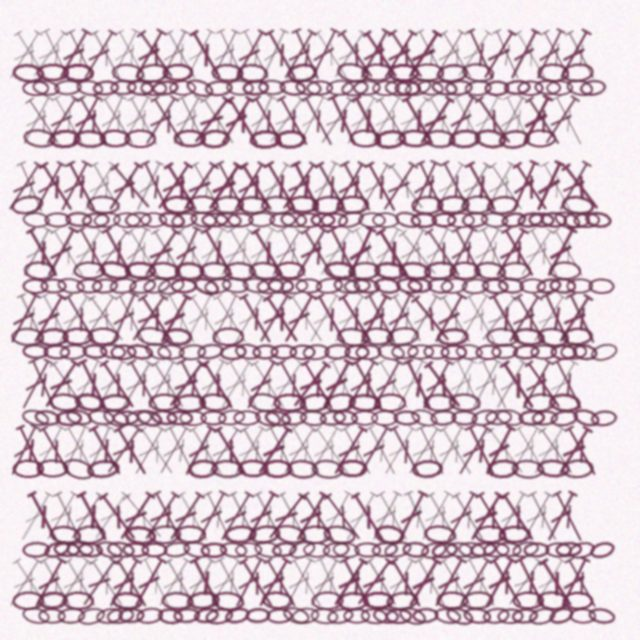chain: (60, 455, 96, 483), (272, 522, 308, 547), (335, 60, 370, 85), (97, 258, 132, 283), (10, 193, 45, 217), (322, 523, 357, 547), (22, 127, 57, 150), (135, 325, 170, 348), (385, 325, 420, 348), (247, 391, 282, 414), (461, 61, 495, 84), (473, 127, 507, 150), (298, 391, 332, 414), (323, 391, 357, 414), (248, 523, 282, 546), (135, 62, 170, 84), (560, 194, 595, 216), (397, 260, 432, 282), (385, 590, 420, 612), (286, 61, 319, 84), (73, 391, 106, 414), (373, 523, 406, 546), (11, 62, 45, 84), (111, 62, 145, 84), (373, 128, 407, 150), (311, 194, 345, 216), (473, 260, 507, 282), (336, 326, 370, 348), (511, 326, 545, 348), (536, 326, 570, 348), (86, 458, 120, 480), (48, 524, 82, 546), (123, 524, 157, 546), (211, 590, 245, 612), (184, 76, 215, 100), (397, 604, 428, 628), (444, 604, 475, 628), (436, 62, 469, 84), (498, 128, 531, 150), (486, 194, 519, 216), (148, 260, 181, 282), (248, 260, 281, 282), (373, 260, 406, 282), (311, 458, 344, 480), (552, 208, 582, 232), (191, 274, 221, 298), (101, 406, 131, 430), (409, 406, 439, 430), (436, 194, 470, 215), (423, 260, 457, 281), (48, 392, 82, 413), (536, 458, 570, 479), (148, 524, 182, 545), (223, 524, 257, 545), (423, 524, 457, 545), (186, 590, 220, 611), (561, 62, 594, 83), (48, 128, 81, 149), (448, 128, 481, 149), (461, 194, 494, 215), (23, 260, 56, 281), (323, 260, 356, 281), (561, 326, 594, 347), (198, 392, 231, 413), (448, 392, 481, 413), (523, 392, 556, 413), (548, 392, 581, 413), (486, 458, 519, 479), (561, 458, 594, 479), (73, 524, 106, 545), (261, 590, 294, 611), (461, 590, 494, 611), (536, 590, 569, 611), (403, 76, 433, 99), (336, 208, 366, 231), (143, 340, 173, 363), (571, 406, 601, 429), (42, 538, 72, 561), (287, 538, 317, 561), (281, 604, 311, 627), (20, 407, 51, 429), (76, 605, 107, 627), (86, 195, 120, 215), (511, 459, 545, 479), (199, 128, 231, 149), (187, 458, 219, 479), (37, 590, 69, 611), (547, 604, 576, 627), (211, 63, 244, 83), (236, 63, 269, 83), (73, 129, 106, 149), (423, 129, 456, 149), (261, 195, 294, 215), (411, 195, 444, 215), (393, 209, 423, 231), (223, 261, 256, 281), (348, 261, 381, 281), (156, 275, 186, 297), (11, 327, 44, 347), (36, 327, 69, 347), (436, 327, 469, 347), (486, 327, 519, 347), (589, 341, 619, 363), (173, 393, 206, 413), (348, 393, 381, 413), (423, 393, 456, 413), (134, 407, 164, 429), (253, 407, 283, 429), (211, 459, 244, 479), (286, 459, 319, 479), (411, 459, 444, 479), (419, 539, 449, 561), (567, 539, 597, 561), (111, 591, 144, 611), (161, 591, 194, 611), (527, 605, 557, 627), (249, 129, 281, 149), (274, 129, 306, 149), (212, 195, 244, 215), (237, 195, 269, 215), (199, 261, 231, 281), (499, 261, 531, 281), (99, 393, 131, 413), (337, 591, 369, 611), (588, 539, 617, 561), (142, 275, 172, 296), (64, 407, 94, 428), (495, 407, 525, 428), (94, 539, 124, 560), (253, 539, 283, 560), (383, 539, 413, 560), (21, 605, 51, 626), (36, 63, 69, 82), (361, 63, 394, 82), (411, 63, 444, 82), (173, 129, 206, 148), (398, 129, 431, 148), (186, 195, 219, 214), (286, 195, 319, 214), (336, 195, 369, 214), (73, 261, 106, 280), (361, 327, 394, 346), (148, 393, 181, 412), (273, 393, 306, 412), (36, 459, 69, 478), (498, 525, 531, 544), (311, 591, 344, 610), (436, 591, 469, 610), (174, 261, 205, 281), (162, 327, 193, 347), (565, 77, 594, 98), (157, 209, 186, 230), (470, 407, 499, 428), (182, 539, 211, 560), (511, 539, 540, 560), (223, 605, 252, 626), (62, 63, 94, 82), (162, 63, 194, 82), (387, 63, 419, 82), (537, 63, 569, 82), (99, 129, 131, 148), (124, 129, 156, 148), (349, 129, 381, 148), (524, 129, 556, 148), (162, 195, 194, 214), (124, 261, 156, 280), (274, 261, 306, 280), (449, 261, 481, 280), (549, 261, 581, 280), (62, 327, 94, 346), (87, 327, 119, 346), (212, 327, 244, 346), (374, 393, 406, 412), (12, 459, 44, 478), (237, 459, 269, 478), (174, 525, 206, 544), (299, 525, 331, 544), (474, 525, 506, 544), (12, 591, 44, 610), (62, 591, 94, 610), (362, 591, 394, 610), (512, 591, 544, 610), (562, 591, 594, 610), (31, 78, 61, 98), (340, 78, 370, 98), (56, 276, 86, 296), (203, 276, 233, 296), (376, 342, 406, 362), (549, 408, 579, 428), (457, 540, 487, 560), (204, 606, 234, 626), (262, 459, 293, 478), (337, 459, 368, 478), (75, 78, 104, 98), (430, 78, 459, 98), (170, 210, 199, 230), (516, 210, 545, 230), (128, 276, 157, 296), (332, 276, 361, 296), (352, 276, 381, 296), (125, 342, 154, 362), (33, 408, 62, 428), (124, 408, 153, 428), (263, 408, 292, 428), (430, 540, 459, 560), (95, 606, 124, 626), (326, 606, 355, 626), (433, 606, 462, 626), (587, 606, 616, 626), (462, 606, 492, 625), (500, 210, 528, 230), (535, 276, 563, 296), (571, 342, 599, 362), (278, 78, 307, 97), (294, 78, 323, 97), (189, 210, 218, 229), (242, 276, 271, 295), (315, 276, 344, 295), (196, 342, 225, 361), (217, 408, 246, 427), (106, 540, 135, 559), (106, 606, 135, 625), (135, 606, 164, 625), (291, 606, 320, 625), (579, 78, 607, 97), (584, 210, 612, 229), (109, 276, 137, 295), (221, 276, 249, 295), (373, 276, 401, 295), (395, 276, 423, 295), (440, 276, 468, 295), (497, 276, 525, 295), (99, 342, 127, 361), (234, 342, 262, 361), (87, 408, 115, 427), (150, 408, 178, 427), (163, 540, 191, 559), (322, 540, 350, 559), (371, 540, 399, 559), (469, 540, 497, 559), (372, 606, 400, 625), (482, 606, 510, 625), (204, 79, 233, 97), (81, 211, 110, 229), (480, 211, 509, 229), (256, 277, 285, 295), (280, 277, 309, 295), (461, 277, 490, 295), (59, 343, 88, 361), (178, 343, 207, 361), (219, 541, 248, 559), (445, 541, 474, 559), (310, 607, 339, 625), (332, 408, 359, 427), (271, 540, 298, 559), (193, 606, 220, 625), (92, 79, 120, 97), (151, 79, 179, 97), (384, 79, 412, 97), (416, 79, 444, 97), (464, 79, 492, 97), (22, 211, 50, 229), (93, 211, 121, 229), (214, 211, 242, 229), (91, 277, 119, 295), (343, 277, 371, 295), (481, 277, 509, 295), (219, 343, 247, 361), (302, 343, 330, 361), (455, 343, 483, 361), (512, 343, 540, 361), (280, 409, 308, 427), (299, 409, 327, 427), (319, 409, 347, 427), (531, 409, 559, 427), (590, 409, 618, 427), (332, 541, 360, 559), (360, 607, 388, 625), (511, 607, 539, 625), (444, 79, 473, 96), (57, 607, 86, 624), (77, 541, 104, 559), (157, 607, 184, 625), (54, 79, 82, 96), (126, 79, 154, 96), (226, 79, 254, 96), (258, 79, 286, 96), (326, 79, 354, 96), (353, 79, 381, 96), (503, 79, 531, 96), (124, 211, 152, 228), (461, 211, 489, 228), (391, 343, 419, 360), (22, 541, 50, 558), (66, 541, 94, 558), (110, 79, 137, 96), (242, 79, 269, 96), (534, 79, 561, 96), (65, 211, 92, 228), (248, 211, 275, 228), (280, 211, 307, 228), (540, 211, 567, 228), (267, 277, 294, 294), (427, 277, 454, 294), (549, 277, 576, 294), (22, 343, 49, 360), (324, 343, 351, 360), (491, 343, 518, 360), (560, 343, 587, 360), (430, 409, 457, 426), (485, 409, 512, 426), (518, 409, 545, 426), (53, 541, 80, 558), (402, 541, 429, 558), (495, 541, 522, 558), (555, 541, 582, 558), (118, 607, 145, 624), (173, 607, 200, 624), (412, 607, 439, 624), (372, 80, 400, 96), (113, 212, 141, 228), (320, 212, 348, 228), (358, 212, 386, 228), (447, 212, 475, 228), (157, 344, 185, 360), (179, 410, 207, 426), (233, 410, 261, 426), (38, 608, 66, 624), (407, 277, 433, 294), (82, 343, 108, 360), (245, 607, 271, 624), (22, 80, 49, 96), (140, 80, 167, 96), (169, 80, 196, 96), (306, 80, 333, 96), (394, 80, 421, 96), (517, 80, 544, 96), (546, 80, 573, 96), (44, 212, 71, 228), (140, 212, 167, 228), (201, 212, 228, 228), (227, 212, 254, 228), (269, 212, 296, 228), (295, 212, 322, 228), (372, 212, 399, 228), (410, 212, 437, 228), (528, 212, 555, 228), (563, 212, 590, 228), (573, 212, 600, 228), (22, 278, 49, 294), (40, 278, 67, 294), (76, 278, 103, 294), (170, 278, 197, 294), (295, 278, 322, 294), (519, 278, 546, 294), (566, 278, 593, 294), (588, 278, 615, 294), (43, 344, 70, 360), (110, 344, 137, 360), (252, 344, 279, 360), (270, 344, 297, 360), (289, 344, 316, 360), (355, 344, 382, 360), (407, 344, 434, 360), (423, 344, 450, 360), (440, 344, 467, 360), (475, 344, 502, 360), (530, 344, 557, 360), (550, 344, 577, 360), (55, 410, 82, 426), (112, 410, 139, 426), (166, 410, 193, 426), (200, 410, 227, 426), (351, 410, 378, 426), (371, 410, 398, 426), (393, 410, 420, 426), (451, 410, 478, 426), (122, 542, 149, 558), (141, 542, 168, 558), (200, 542, 227, 558), (235, 542, 262, 558), (303, 542, 330, 558), (354, 542, 381, 558), (483, 542, 510, 558), (523, 542, 550, 558), (545, 542, 572, 558), (266, 608, 293, 624), (343, 608, 370, 624), (385, 608, 412, 624), (497, 608, 524, 624), (569, 608, 596, 624), (484, 80, 510, 96), (310, 212, 336, 228), (431, 212, 457, 228), (344, 344, 370, 360)
double: (407, 292, 456, 346), (187, 93, 235, 148), (162, 357, 210, 412), (107, 160, 156, 213), (119, 490, 168, 543), (395, 226, 443, 280), (262, 490, 310, 544), (133, 27, 180, 82), (125, 291, 172, 346), (45, 357, 92, 412), (100, 423, 147, 478), (21, 93, 67, 149), (313, 93, 359, 149), (521, 93, 567, 149), (176, 159, 222, 215), (201, 159, 247, 215), (484, 159, 530, 215), (138, 225, 184, 281), (421, 225, 467, 281), (513, 225, 559, 281), (134, 291, 180, 347), (259, 291, 305, 347), (246, 357, 292, 413), (263, 357, 309, 413), (134, 423, 180, 479), (534, 423, 580, 479), (76, 555, 122, 611), (84, 555, 130, 611), (558, 160, 605, 214), (475, 292, 522, 346), (287, 358, 334, 412), (420, 358, 467, 412), (483, 424, 530, 478), (95, 490, 142, 544), (320, 490, 367, 544), (26, 27, 72, 82), (263, 93, 309, 148), (388, 93, 434, 148), (471, 93, 517, 148), (384, 159, 430, 214), (88, 225, 134, 280), (84, 291, 130, 346), (521, 357, 567, 412), (309, 423, 355, 478), (351, 555, 397, 610), (501, 555, 547, 610), (401, 27, 446, 83), (96, 93, 141, 149), (138, 93, 183, 149), (196, 93, 241, 149), (371, 93, 416, 149), (413, 93, 458, 149), (376, 159, 421, 215), (46, 225, 91, 281), (213, 225, 258, 281), (184, 291, 229, 347), (209, 291, 254, 347), (334, 291, 379, 347), (501, 291, 546, 347), (526, 291, 571, 347), (146, 357, 191, 413), (496, 357, 541, 413), (201, 423, 246, 479), (401, 423, 446, 479), (551, 423, 596, 479), (163, 489, 208, 545), (463, 489, 508, 545), (496, 489, 541, 545), (51, 555, 96, 611), (427, 26, 471, 83), (47, 92, 91, 149), (222, 224, 266, 281), (289, 224, 333, 281), (497, 224, 541, 281), (252, 290, 296, 347), (385, 290, 429, 347), (372, 356, 416, 413), (510, 422, 554, 479), (39, 488, 83, 545), (360, 554, 404, 611), (485, 554, 529, 611), (309, 27, 354, 82), (334, 27, 379, 82), (359, 27, 404, 82), (384, 27, 429, 82), (451, 27, 496, 82), (538, 93, 583, 148), (151, 159, 196, 214), (276, 159, 321, 214), (509, 159, 554, 214), (313, 225, 358, 280), (76, 291, 121, 346), (284, 291, 329, 346), (38, 357, 83, 412), (96, 357, 141, 412), (251, 423, 296, 478), (276, 423, 321, 478), (63, 489, 108, 544), (88, 489, 133, 544), (113, 489, 158, 544), (138, 489, 183, 544), (9, 555, 54, 610), (2, 27, 46, 83), (10, 27, 54, 83), (327, 27, 371, 83), (377, 27, 421, 83), (435, 27, 479, 83), (39, 93, 83, 149), (147, 93, 191, 149), (214, 93, 258, 149), (2, 159, 46, 215), (35, 159, 79, 215), (77, 159, 121, 215), (102, 159, 146, 215), (160, 159, 204, 215), (235, 159, 279, 215), (452, 159, 496, 215), (64, 225, 108, 281), (122, 225, 166, 281), (297, 225, 341, 281), (372, 225, 416, 281), (327, 291, 371, 347), (552, 291, 596, 347), (114, 357, 158, 413), (185, 423, 229, 479), (227, 423, 271, 479), (327, 423, 371, 479), (377, 423, 421, 479), (435, 423, 479, 479), (297, 489, 341, 545), (347, 489, 391, 545), (447, 489, 491, 545), (2, 555, 46, 611), (110, 555, 154, 611), (202, 555, 246, 611), (235, 555, 279, 611), (452, 555, 496, 611), (535, 555, 579, 611), (52, 26, 95, 83), (127, 26, 170, 83), (552, 26, 595, 83), (364, 92, 407, 149), (422, 92, 465, 149), (260, 158, 303, 215), (552, 158, 595, 215), (22, 224, 65, 281), (72, 224, 115, 281), (197, 224, 240, 281), (277, 290, 320, 347), (302, 290, 345, 347), (402, 290, 445, 347), (427, 290, 470, 347), (452, 290, 495, 347), (485, 290, 528, 347), (222, 356, 265, 413), (347, 356, 390, 413), (60, 422, 103, 479), (85, 422, 128, 479), (152, 422, 195, 479), (285, 422, 328, 479), (352, 422, 395, 479), (239, 488, 282, 545), (372, 488, 415, 545), (414, 488, 457, 545), (489, 488, 532, 545), (35, 554, 78, 611), (127, 554, 170, 611), (410, 554, 453, 611), (427, 554, 470, 611), (327, 555, 371, 610), (77, 27, 120, 83), (185, 27, 228, 83), (277, 27, 320, 83), (477, 27, 520, 83), (510, 27, 553, 83), (222, 93, 265, 149), (227, 159, 270, 215), (252, 159, 295, 215), (427, 159, 470, 215), (147, 225, 190, 281), (172, 225, 215, 281), (247, 225, 290, 281), (264, 225, 307, 281), (489, 225, 532, 281), (547, 225, 590, 281), (27, 291, 70, 347), (52, 291, 95, 347), (60, 291, 103, 347), (227, 291, 270, 347), (235, 291, 278, 347), (435, 291, 478, 347), (510, 291, 553, 347), (197, 357, 240, 413), (214, 357, 257, 413), (297, 357, 340, 413), (489, 357, 532, 413), (539, 357, 582, 413), (35, 423, 78, 479), (110, 423, 153, 479), (127, 423, 170, 479), (210, 423, 253, 479), (452, 423, 495, 479), (527, 423, 570, 479), (14, 489, 57, 545), (214, 489, 257, 545), (289, 489, 332, 545), (339, 489, 382, 545), (422, 489, 465, 545), (472, 489, 515, 545), (60, 555, 103, 611), (102, 555, 145, 611), (152, 555, 195, 611), (160, 555, 203, 611), (252, 555, 295, 611), (260, 555, 303, 611), (385, 555, 428, 611), (402, 555, 445, 611), (435, 555, 478, 611), (527, 555, 570, 611), (353, 26, 395, 83), (536, 26, 578, 83), (15, 92, 57, 149), (165, 92, 207, 149), (515, 92, 557, 149), (548, 92, 590, 149), (53, 158, 95, 215), (61, 158, 103, 215), (336, 158, 378, 215), (15, 224, 57, 281), (40, 224, 82, 281), (98, 224, 140, 281), (465, 224, 507, 281), (111, 290, 153, 347), (161, 290, 203, 347), (361, 290, 403, 347), (190, 356, 232, 413), (315, 356, 357, 413), (361, 422, 403, 479), (428, 422, 470, 479), (190, 488, 232, 545), (248, 488, 290, 545), (315, 488, 357, 545), (211, 554, 253, 611), (336, 554, 378, 611), (478, 554, 520, 611), (86, 27, 128, 83), (111, 27, 153, 83), (161, 27, 203, 83), (228, 27, 270, 83), (261, 27, 303, 83), (73, 93, 115, 149), (123, 93, 165, 149), (248, 93, 290, 149), (273, 93, 315, 149), (340, 93, 382, 149), (398, 93, 440, 149), (86, 159, 128, 215), (186, 159, 228, 215), (311, 159, 353, 215), (328, 159, 370, 215), (353, 159, 395, 215), (361, 159, 403, 215), (461, 159, 503, 215), (478, 159, 520, 215), (536, 159, 578, 215), (523, 225, 565, 281), (153, 291, 195, 347), (311, 291, 353, 347), (461, 291, 503, 347), (123, 357, 165, 413), (240, 357, 282, 413), (273, 357, 315, 413), (340, 357, 382, 413), (365, 357, 407, 413), (415, 357, 457, 413), (515, 357, 557, 413), (236, 423, 278, 479), (303, 423, 345, 479), (336, 423, 378, 479), (503, 423, 545, 479), (561, 423, 603, 479), (173, 489, 215, 545), (273, 489, 315, 545), (440, 489, 482, 545), (515, 489, 557, 545), (28, 555, 70, 611), (178, 555, 220, 611), (286, 555, 328, 611), (303, 555, 345, 611), (378, 555, 420, 611), (561, 555, 603, 611), (61, 26, 102, 83), (153, 26, 194, 83), (178, 26, 219, 83), (236, 26, 277, 83), (411, 26, 452, 83), (503, 26, 544, 83), (65, 92, 106, 149), (173, 92, 214, 149), (348, 92, 389, 149), (440, 92, 481, 149), (448, 92, 489, 149), (465, 92, 506, 149), (490, 92, 531, 149), (211, 158, 252, 215), (436, 158, 477, 215), (240, 224, 281, 281), (273, 224, 314, 281), (323, 224, 364, 281), (348, 224, 389, 281), (390, 224, 431, 281), (448, 224, 489, 281), (540, 224, 581, 281), (3, 290, 44, 347), (36, 290, 77, 347), (178, 290, 219, 347), (15, 356, 56, 413), (90, 356, 131, 413), (140, 356, 181, 413), (173, 356, 214, 413), (390, 356, 431, 413), (440, 356, 481, 413), (465, 356, 506, 413), (28, 422, 69, 479), (161, 422, 202, 479), (461, 422, 502, 479), (478, 422, 519, 479), (23, 488, 64, 545), (73, 488, 114, 545), (148, 488, 189, 545), (365, 488, 406, 545), (523, 488, 564, 545), (540, 488, 581, 545), (136, 554, 177, 611), (186, 554, 227, 611), (228, 554, 269, 611), (278, 554, 319, 611), (461, 554, 502, 611), (511, 554, 552, 611), (553, 554, 594, 611), (561, 27, 602, 83), (298, 93, 339, 149), (28, 159, 69, 215), (353, 291, 394, 347), (178, 423, 219, 479), (386, 423, 427, 479), (104, 26, 144, 83), (204, 26, 244, 83), (529, 26, 569, 83), (116, 92, 156, 149), (291, 92, 331, 149), (499, 92, 539, 149), (287, 158, 327, 215), (304, 158, 344, 215), (404, 158, 444, 215), (529, 158, 569, 215), (191, 224, 231, 281), (366, 224, 406, 281), (416, 224, 456, 281), (441, 224, 481, 281), (474, 224, 514, 281), (12, 290, 52, 347), (204, 290, 244, 347), (537, 290, 577, 347), (562, 290, 602, 347), (66, 356, 106, 413), (74, 356, 114, 413), (324, 356, 364, 413), (399, 356, 439, 413), (474, 356, 514, 413), (549, 356, 589, 413), (262, 422, 302, 479), (412, 422, 452, 479), (49, 488, 89, 545), (224, 488, 264, 545), (391, 488, 431, 545), (549, 488, 589, 545), (12, 158, 51, 216), (104, 290, 143, 348), (79, 422, 118, 480), (37, 26, 76, 83), (212, 26, 251, 83), (254, 26, 293, 83), (304, 26, 343, 83), (462, 26, 501, 83), (241, 92, 280, 149), (324, 92, 363, 149), (129, 158, 168, 215), (137, 158, 176, 215), (412, 158, 451, 215), (341, 224, 380, 281), (379, 290, 418, 347), (449, 356, 488, 413), (4, 422, 43, 479), (12, 422, 51, 479), (199, 488, 238, 545), (312, 554, 351, 611), (288, 26, 326, 83), (488, 26, 526, 83), (92, 92, 130, 149), (505, 158, 543, 215), (117, 224, 155, 281), (167, 224, 205, 281), (25, 356, 63, 413), (55, 422, 93, 479), (400, 488, 438, 545)
